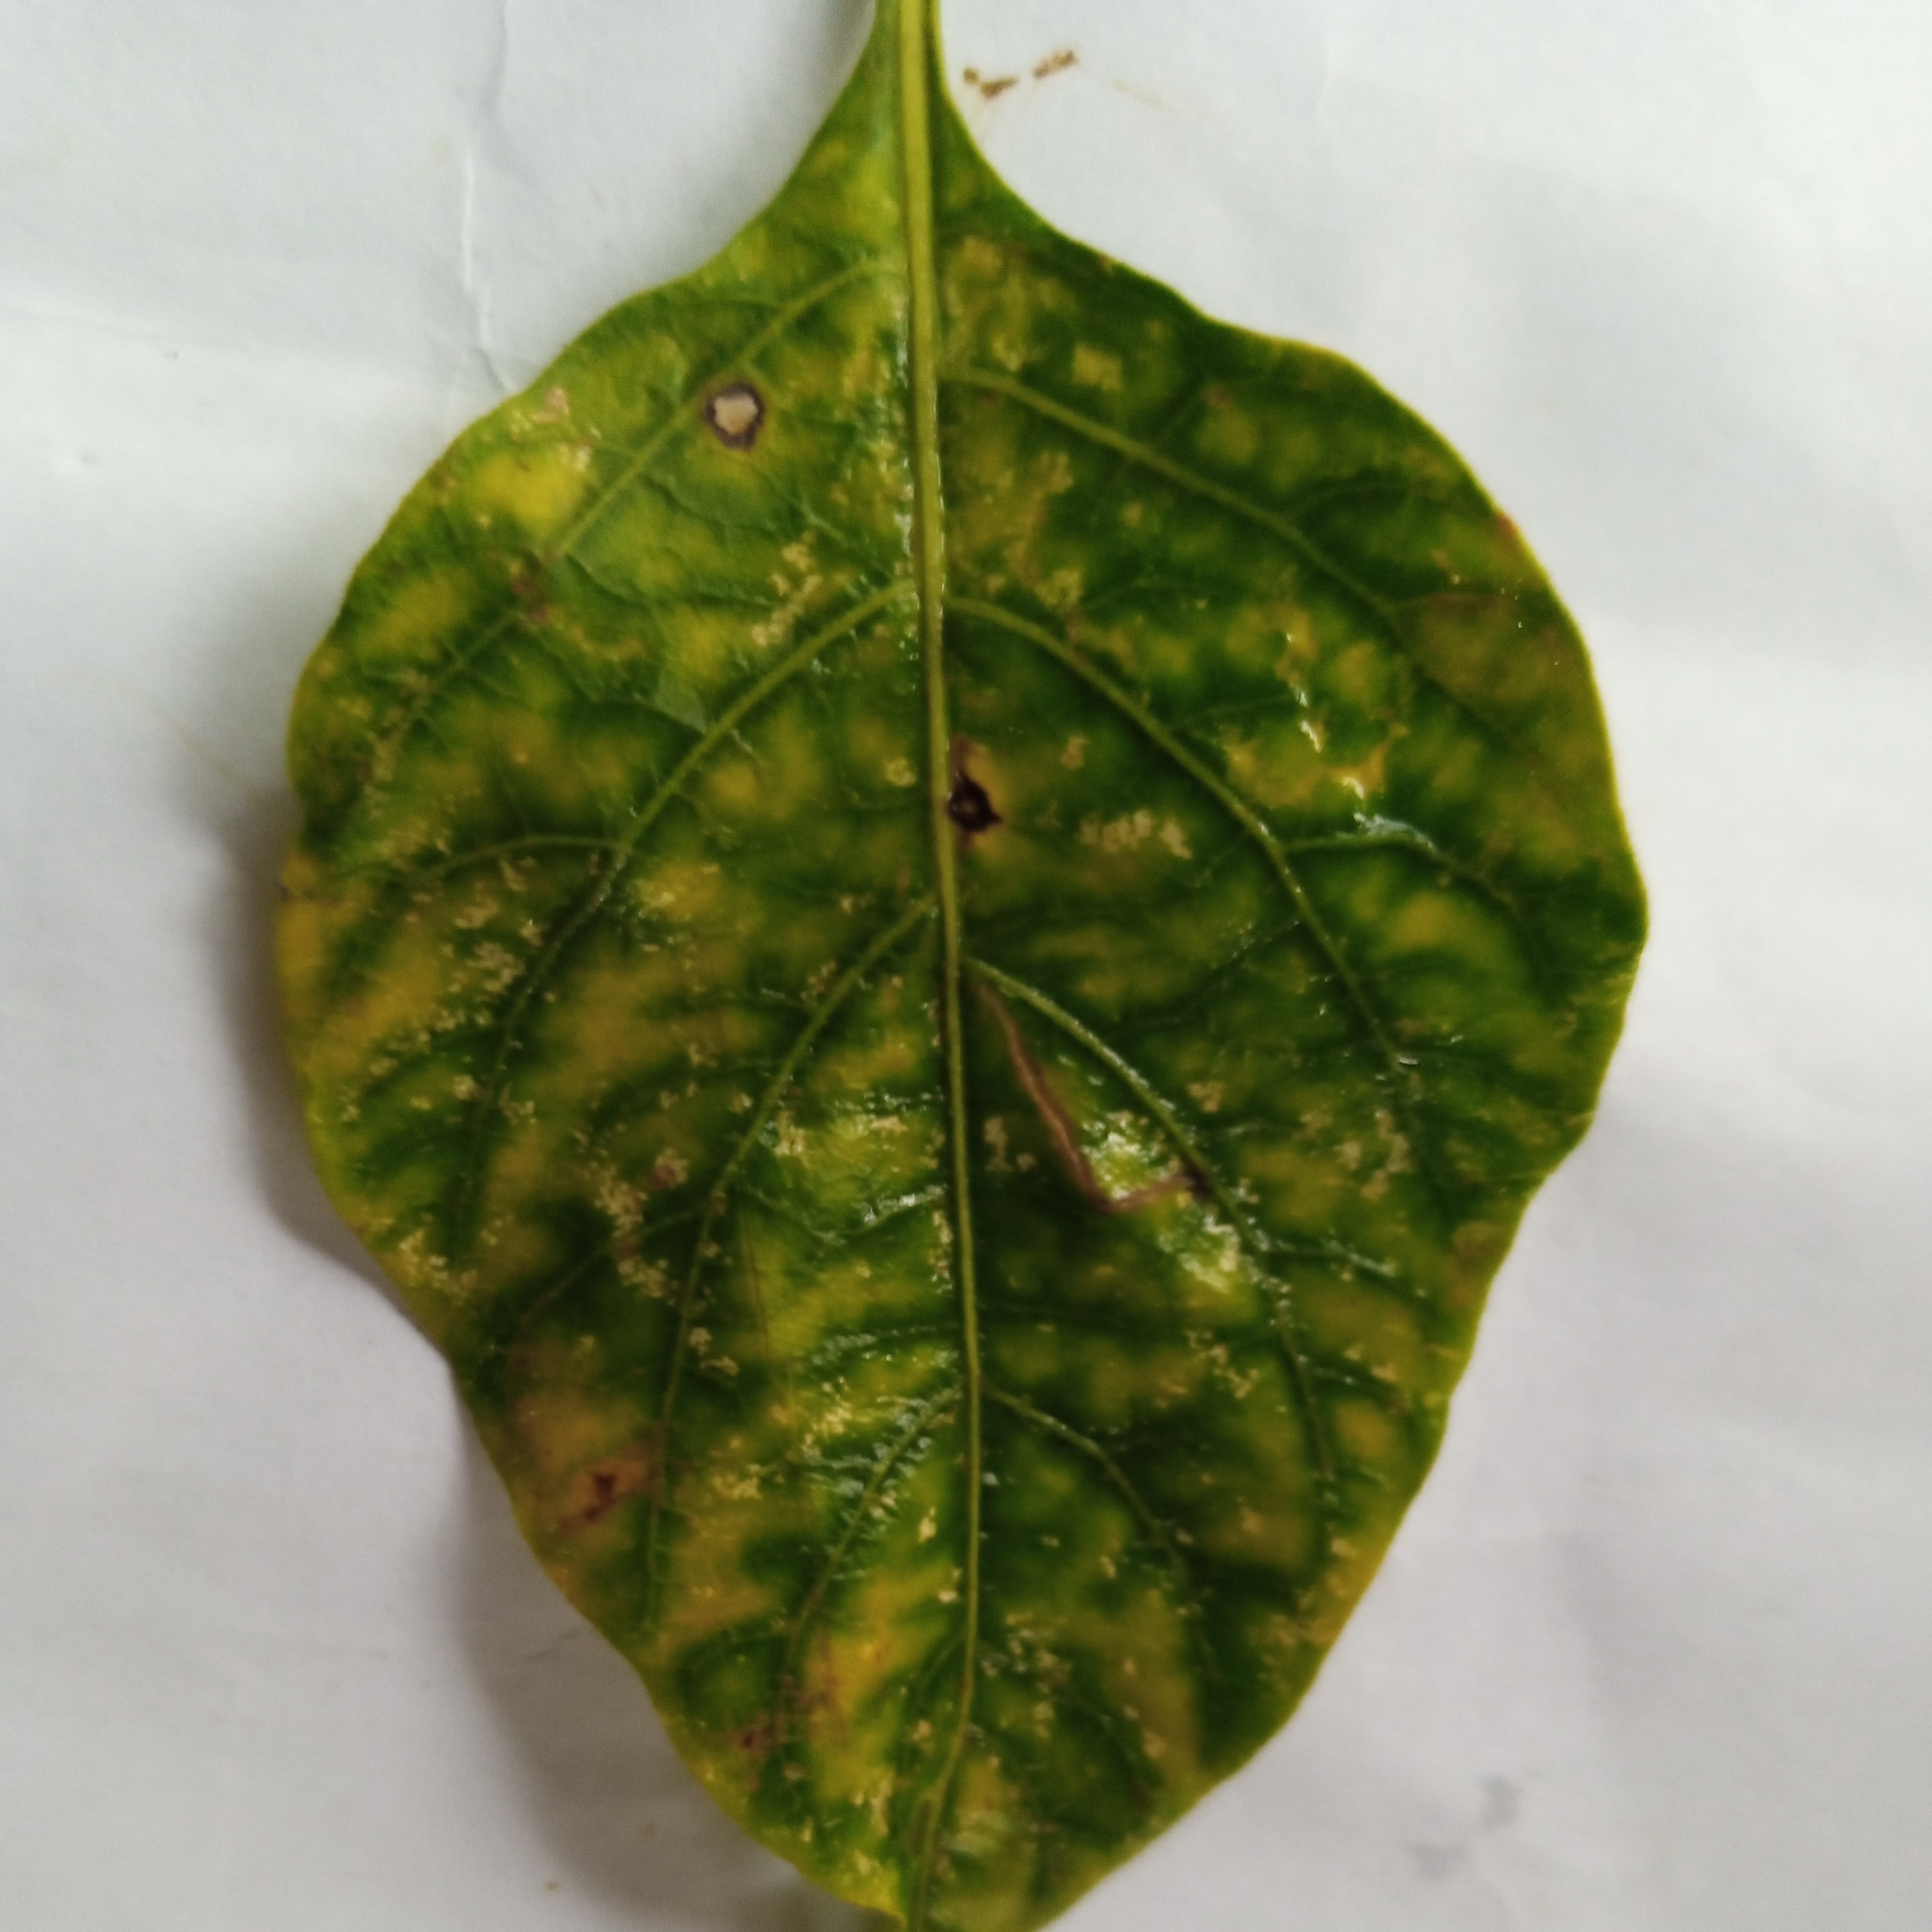Leaf: (87, 28, 1766, 1932)
